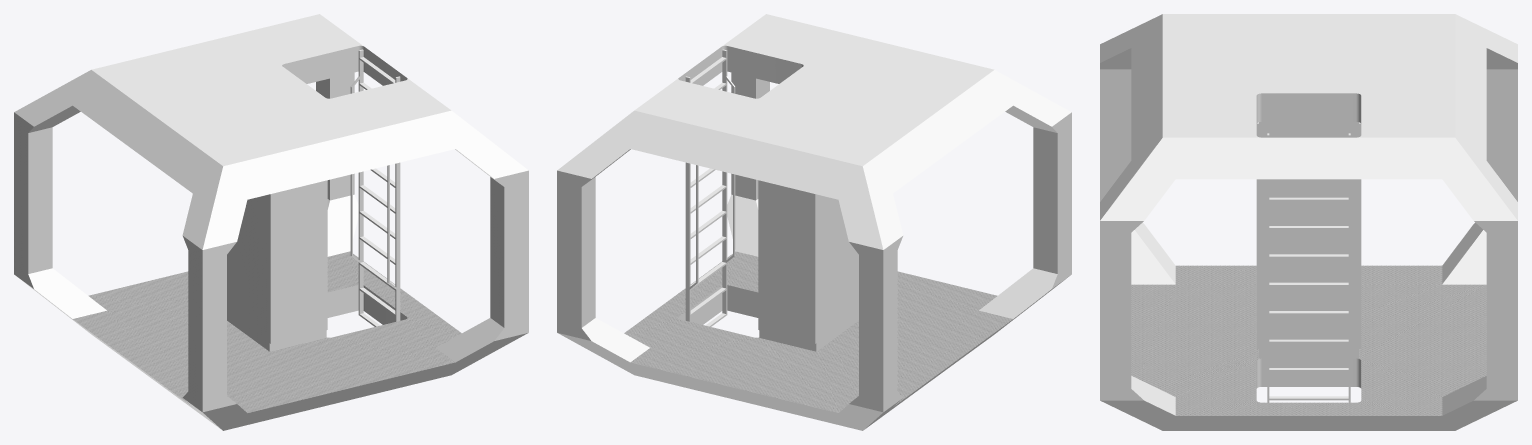
Rendered from ARKHA_TransCore_L2_V1.glb.
The picture shows the model from 3 angles, left to right: view 1: azimuth 30°, elevation 25°; view 2: azimuth 150°, elevation 25°; view 3: azimuth 270°, elevation 25°; orthographic projection. The views are drawn at different scales.
Parts seen in each view (by area): view 1: 789513, 790103, 790135, 790134, 789316, 789318; view 2: 789513, 790103, 789849, 789819, 789318, 789316; view 3: 789513, 790103, 789318, 789316, 790134, 789819, 788637, 788638, 788636, 788641, 788639, 789406.
Part boxes in pixels (bbox=[...]): 789513: bbox=[14, 14, 528, 430]; 790103: bbox=[227, 194, 326, 351]; 790135: bbox=[269, 187, 298, 343]; 790134: bbox=[299, 180, 327, 336]; 789316: bbox=[387, 76, 400, 321]; 789318: bbox=[350, 49, 363, 315]; 789513: bbox=[557, 14, 1071, 430]; 790103: bbox=[759, 194, 858, 351]; 789849: bbox=[787, 187, 816, 343]; 789819: bbox=[758, 180, 786, 336]; 789318: bbox=[685, 76, 698, 321]; 789316: bbox=[722, 49, 735, 315]; 789513: bbox=[1100, 14, 1517, 430]; 790103: bbox=[1259, 122, 1358, 358]; 789318: bbox=[1348, 133, 1350, 402]; 789316: bbox=[1267, 133, 1269, 402]; 790134: bbox=[1256, 122, 1258, 348]; 789819: bbox=[1359, 122, 1361, 348]; 788637: bbox=[1269, 311, 1348, 315]; 788638: bbox=[1269, 282, 1348, 286]; 788636: bbox=[1269, 339, 1348, 343]; 788641: bbox=[1269, 197, 1348, 201]; 788639: bbox=[1269, 254, 1348, 258]; 789406: bbox=[1269, 396, 1348, 400].
Bounding box in the file's own units: 4 × 3.1 × 4.
Materials: 667 (1 with a texture image).
